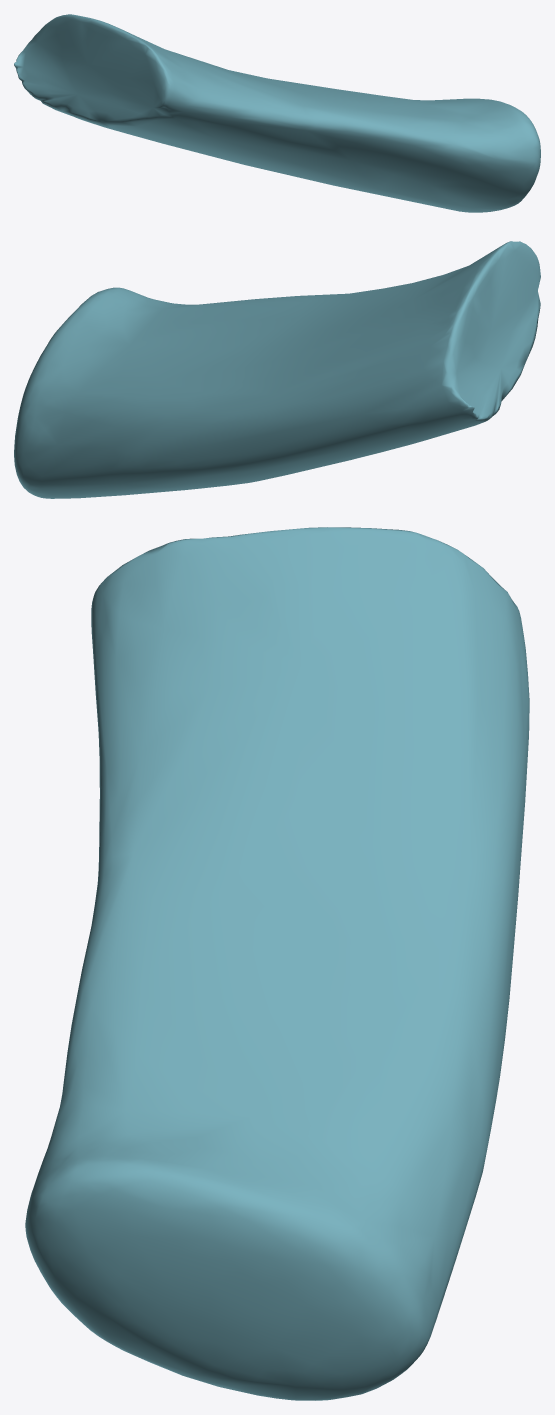
3 views of the same model, one above another, from view 1: azimuth 30°, elevation 25°; view 2: azimuth 150°, elevation 25°; view 3: azimuth 270°, elevation 25° (orthographic). The views are drawn at different scales.
Visible parts, largest first — view 1: 右侧第三肋软骨; view 2: 右侧第三肋软骨; view 3: 右侧第三肋软骨.
Part boxes in pixels (<box>): 右侧第三肋软骨: <box>14,14,540,212</box>; 右侧第三肋软骨: <box>14,241,540,498</box>; 右侧第三肋软骨: <box>25,527,529,1400</box>.
Size of the model in its own units: 0.055 by 0.0329 by 0.0285.
